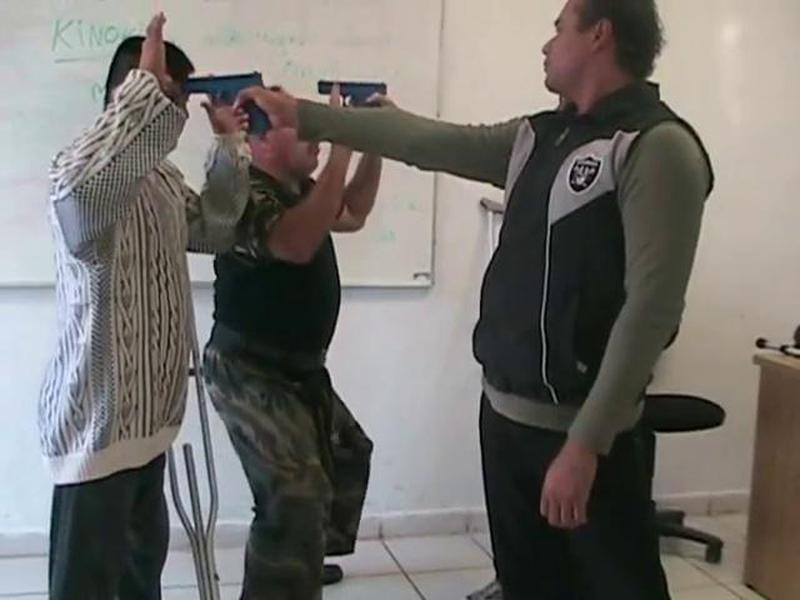Pistola: (174, 51, 275, 141)
